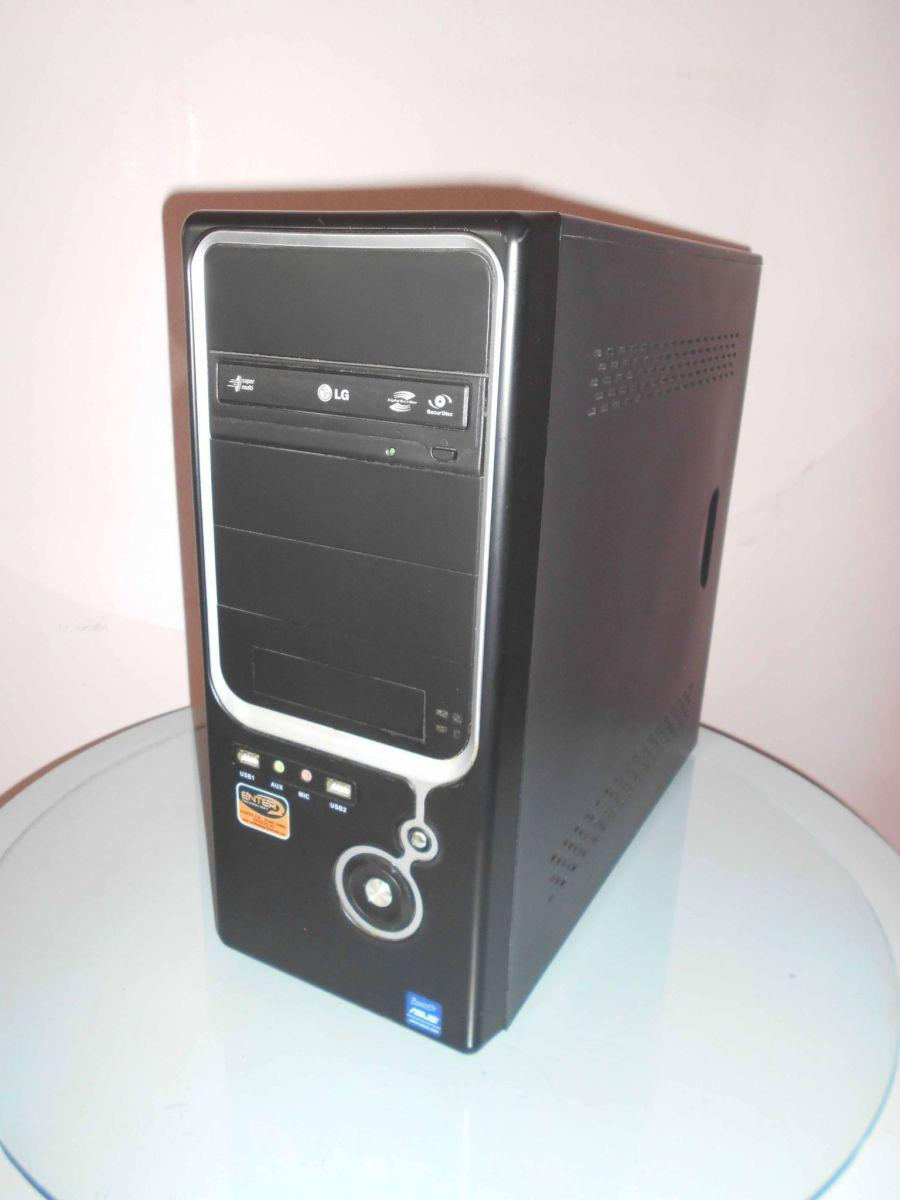DESKTOP PC: (187, 209, 731, 1054)
